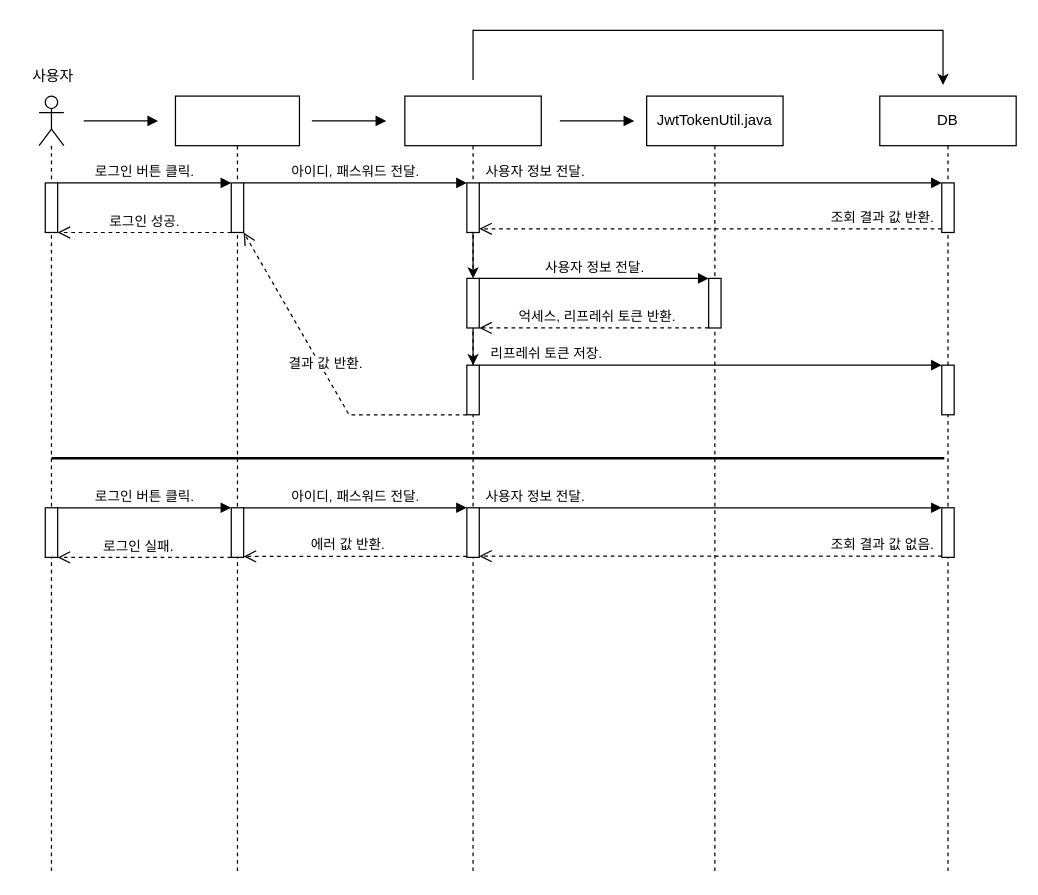
Image size: 1038x895. Some labels were removed from this diagram. The shapes that lost their labels are listed below. From the top down, each one's centre as x and y in pixels, then its label:
(x=236, y=484): login
(x=472, y=484): UserApi Controller.java
